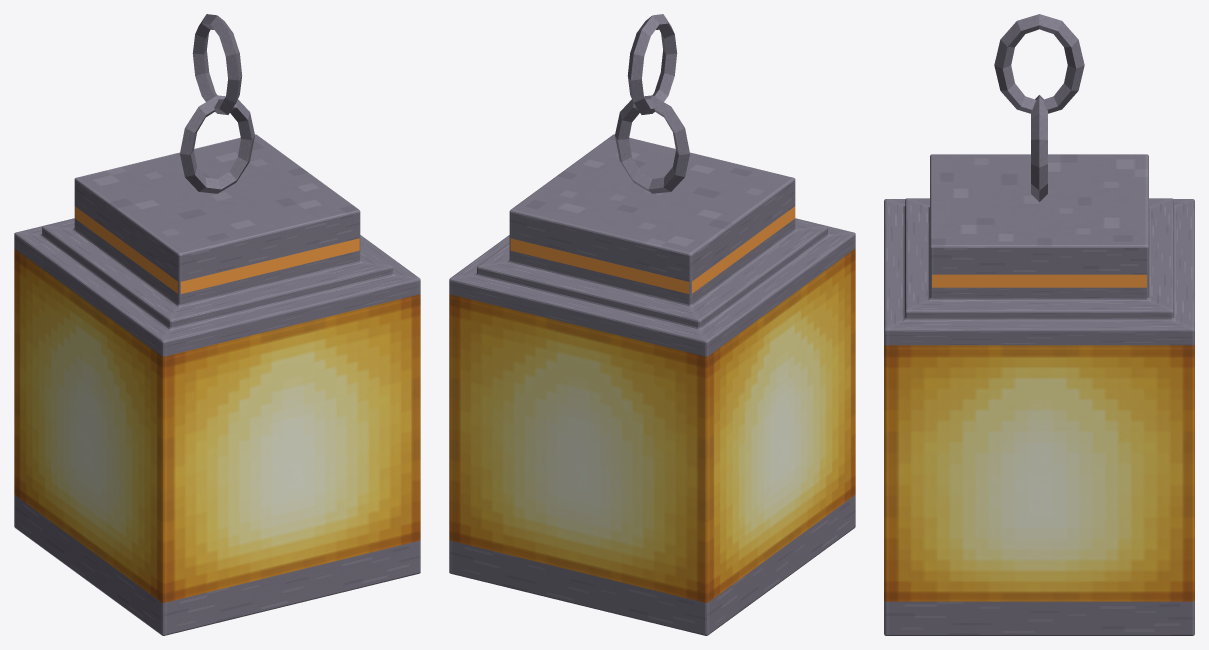
The model's file is CraftLantern.fbx.
The picture shows the model from 3 angles, left to right: view 1: azimuth 30°, elevation 25°; view 2: azimuth 150°, elevation 25°; view 3: azimuth 270°, elevation 25°; orthographic projection. The views are drawn at different scales.
Visible parts, largest first — view 1: CraftLantern; view 2: CraftLantern; view 3: CraftLantern.
Part boxes in pixels (bbox=[...]): CraftLantern: bbox=[14, 14, 420, 635]; CraftLantern: bbox=[449, 14, 855, 635]; CraftLantern: bbox=[884, 14, 1194, 635].
Size of the model in its own units: 44 by 87 by 44.
Materials: 3 (2 with a texture image).
